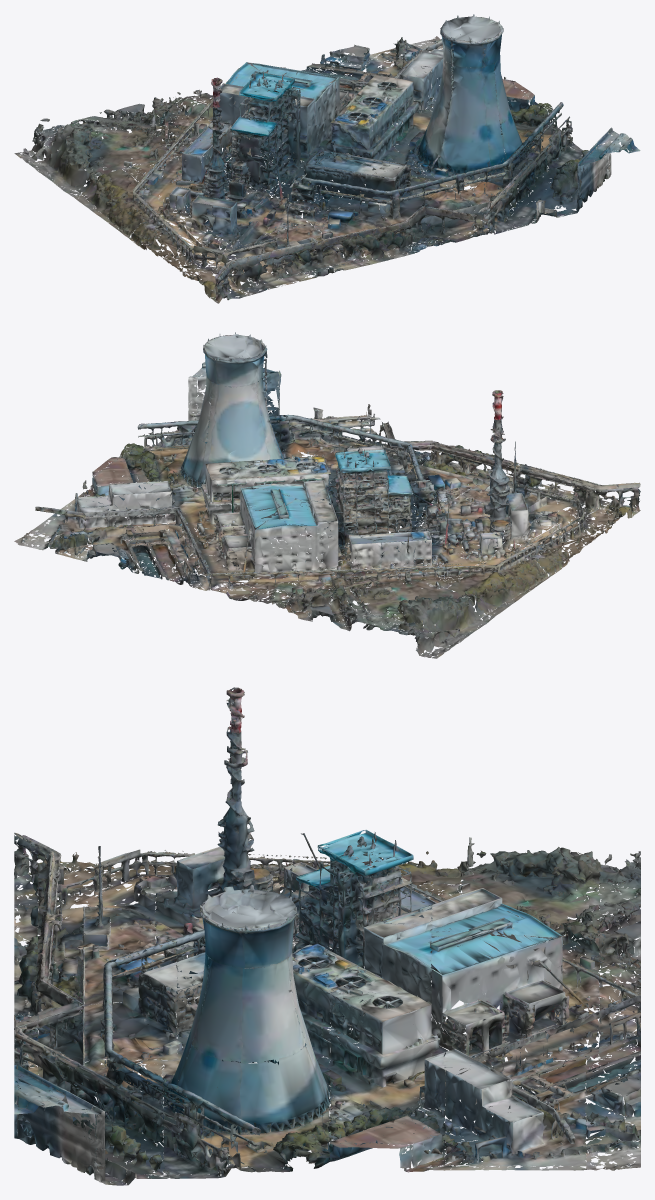
Rendered from thermal.glb.
3 views of the same model, one above another, from view 1: azimuth 30°, elevation 25°; view 2: azimuth 150°, elevation 25°; view 3: azimuth 270°, elevation 25° (orthographic). The views are drawn at different scales.
Visible parts, largest first — view 1: Object_5, Object_3, Object_11, Object_9, Object_4, Object_13, Object_10, Object_12, Object_8, Object_15, Object_6, Object_7 (+1 smaller); view 2: Object_14, Object_5, Object_13, Object_11, Object_3, Object_8, Object_4, Object_7, Object_9, Object_10, Object_12, Object_15 (+1 smaller); view 3: Object_8, Object_7, Object_10, Object_3, Object_11, Object_14, Object_13, Object_15, Object_6, Object_9, Object_4, Object_12 (+1 smaller).
Part boxes in pixels (x1,y1,x2,y2): Object_5: (124,58,506,208); Object_3: (14,36,640,303); Object_11: (29,47,529,295); Object_9: (80,142,608,283); Object_4: (123,81,432,212); Object_13: (154,63,633,244); Object_10: (366,70,615,232); Object_12: (25,37,621,301); Object_8: (169,14,582,259); Object_15: (259,40,484,281); Object_6: (222,62,341,191); Object_7: (210,55,510,261); Object_14: (38,365,434,653); Object_5: (198,376,500,586); Object_13: (244,369,539,597); Object_11: (52,412,630,648); Object_3: (14,362,640,658); Object_8: (39,332,492,604); Object_4: (232,456,497,588); Object_7: (175,375,503,584); Object_9: (180,372,575,614); Object_10: (84,370,360,530); Object_12: (21,371,638,654); Object_15: (49,424,574,564); Object_8: (39,884,639,1174); Object_7: (37,687,599,1064); Object_10: (18,990,448,1181); Object_3: (14,832,640,1185); Object_11: (15,842,633,1166); Object_14: (58,851,640,1184); Object_13: (17,729,600,1118); Object_15: (37,846,587,1165); Object_6: (292,830,599,1060); Object_9: (18,851,605,1180); Object_4: (176,833,461,1058); Object_12: (15,836,639,1167).
Size of the model in its own units: 251 by 87.9 by 210.
Materials: 1 (1 with a texture image).
